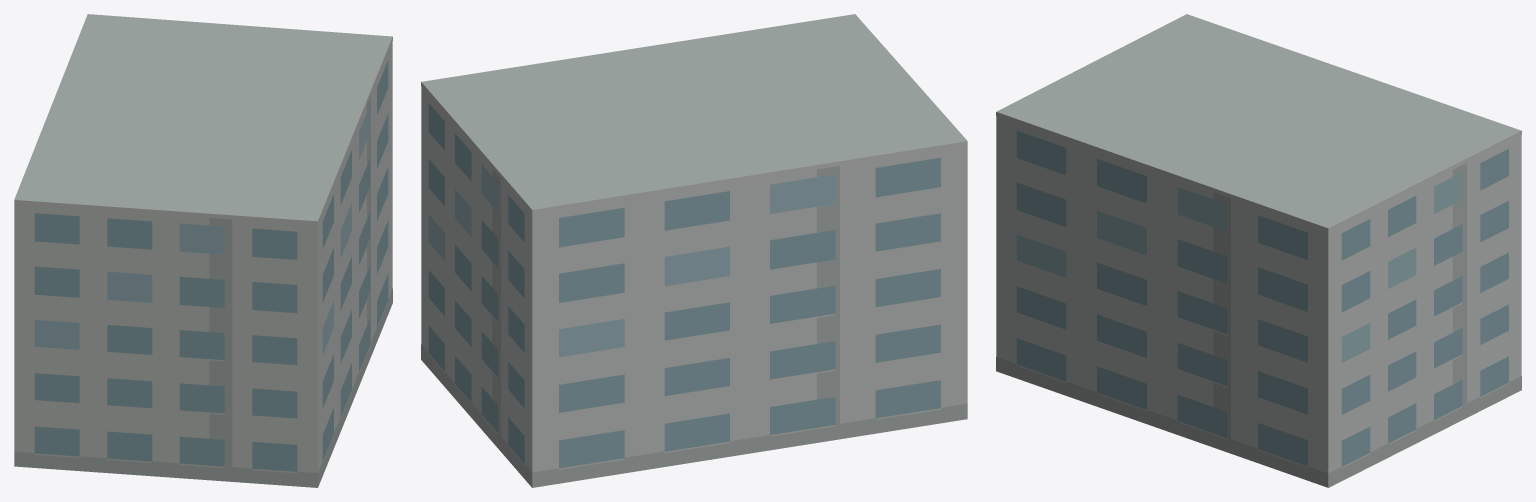
File: survey-upis-32699222.glb
3 renders of one model, left to right at view 1: azimuth 30°, elevation 25°; view 2: azimuth 150°, elevation 25°; view 3: azimuth 270°, elevation 25°, orthographic. The views are drawn at different scales.
Visible parts, largest first — view 1: survey-upis-32699222.tmp; view 2: survey-upis-32699222.tmp; view 3: survey-upis-32699222.tmp.
Boxes of the visible parts, x1,y1,x2,y2 form: survey-upis-32699222.tmp: (14,14,392,487); survey-upis-32699222.tmp: (421,14,967,487); survey-upis-32699222.tmp: (996,14,1521,487).
Bounding box in the file's own units: 26.77 × 15.1 × 27.72.
